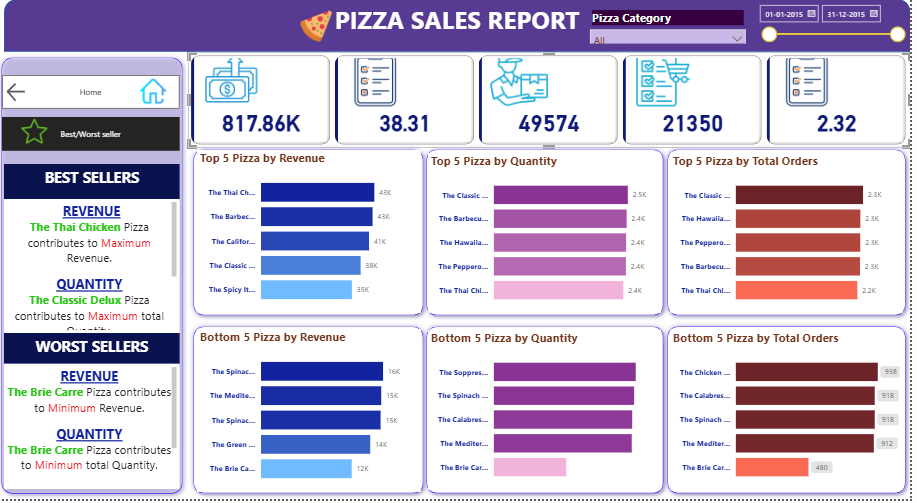

The dashboard page shown, as its layout file describes it:
{"tool":"powerbi","page":{"name":"Best/Worst seller","canvas":[1500,820],"ordinal":1},"visuals":[{"type":"cardVisual","fields":{"Data":["pizza_sales.Total Revenue","pizza_sales.Avg Order Value","pizza_sales.Total Pizza Sold","pizza_sales.Total Orders","pizza_sales.Avg Pizzas Per Order"]},"box":[314.9,86.9,1185.7,157.4],"z":0},{"type":"shape","box":[13.3,0,1486.7,86.7],"z":1000},{"type":"image","box":[210,13.3,630,63.3],"z":2000},{"type":"shape","box":[315,238.3,395,290],"z":3000},{"type":"shape","box":[0,86.7,315,733.3],"z":4000},{"type":"textbox","box":[13.3,270,288.3,58.3],"z":5000},{"type":"textbox","box":[13.3,328.3,288.3,220],"z":6000},{"type":"textbox","box":[13.3,548.3,288.3,50],"z":7000},{"type":"textbox","box":[13.3,598.3,288.3,205],"z":8000},{"type":"slicer","fields":{"Values":["pizza_sales.pizza_category"]},"box":[965,13.3,275,60],"z":9000},{"type":"slicer","fields":{"Values":["pizza_sales.order_date"]},"box":[1240,0,260,76.7],"z":10000},{"type":"shape","box":[696.7,238.3,406.7,290],"z":11000},{"type":"shape","box":[1091.7,238.3,408.3,290],"z":12000},{"type":"shape","box":[315,528.3,395,291.7],"z":13000},{"type":"shape","box":[696.7,528.3,406.7,291.7],"z":14000},{"type":"shape","box":[1091.7,528.3,408.3,291.7],"z":15000},{"type":"barChart","title":"Top 5 Pizza by Revenue","fields":{"Category":["pizza_sales.pizza_name"],"Y":["pizza_sales.Total Revenue"]},"box":[330,248.3,366.7,266.7],"z":16000},{"type":"barChart","title":"Bottom 5 Pizza by Revenue","fields":{"Category":["pizza_sales.pizza_name"],"Y":["pizza_sales.Total Revenue"]},"box":[330,541.7,366.7,266.7],"z":17000},{"type":"barChart","title":"Top 5 Pizza by Quantity","fields":{"Category":["pizza_sales.pizza_name"],"Y":["pizza_sales.Total Pizza Sold"]},"box":[708.3,253.3,381.7,261.7],"z":18000},{"type":"barChart","title":"Bottom 5 Pizza by Quantity","fields":{"Category":["pizza_sales.pizza_name"],"Y":["pizza_sales.Total Pizza Sold"]},"box":[708.3,543.3,381.7,261.7],"z":19000},{"type":"barChart","title":"Top 5 Pizza by Total Orders","fields":{"Category":["pizza_sales.pizza_name"],"Y":["pizza_sales.Total Orders"]},"box":[1105,253.3,381.7,261.7],"z":20000},{"type":"barChart","title":"Bottom 5 Pizza by Total Orders","fields":{"Category":["pizza_sales.pizza_name"],"Y":["pizza_sales.Total Orders"]},"box":[1105,543.3,381.7,261.7],"z":21000},{"type":"pageNavigator","box":[10,193.3,291.7,55],"z":22000},{"type":"pageNavigator","box":[10,125,291.7,55],"z":23000},{"type":"actionButton","box":[13.3,133.3,100,40],"z":24000},{"type":"image","box":[35,190,56.7,53.3],"z":25000},{"type":"image","box":[231.7,125,53.3,53.3],"z":26000}]}

Visuals, with their boxes in screenshot pixels (x1, y1, x2, y2), scaled from the page's 1500x820 canvas onto the 917x503 screenshot:
cardVisual - pizza_sales.Total Revenue x pizza_sales.Avg Order Value: 193 53 916 150
shape: 8 0 916 53
image: 128 8 514 47
shape: 193 146 434 324
shape: 0 53 193 502
textbox: 8 166 184 201
textbox: 8 201 184 336
textbox: 8 336 184 367
textbox: 8 367 184 493
slicer - pizza_sales.pizza_category: 590 8 758 45
slicer - pizza_sales.order_date: 758 0 916 47
shape: 426 146 675 324
shape: 667 146 916 324
shape: 193 324 434 502
shape: 426 324 675 502
shape: 667 324 916 502
"Top 5 Pizza by Revenue" barChart: 202 152 426 316
"Bottom 5 Pizza by Revenue" barChart: 202 332 426 496
"Top 5 Pizza by Quantity" barChart: 433 155 666 316
"Bottom 5 Pizza by Quantity" barChart: 433 333 666 494
"Top 5 Pizza by Total Orders" barChart: 676 155 909 316
"Bottom 5 Pizza by Total Orders" barChart: 676 333 909 494
pageNavigator: 6 119 184 152
pageNavigator: 6 77 184 110
actionButton: 8 82 69 106
image: 21 117 56 149
image: 142 77 174 109
